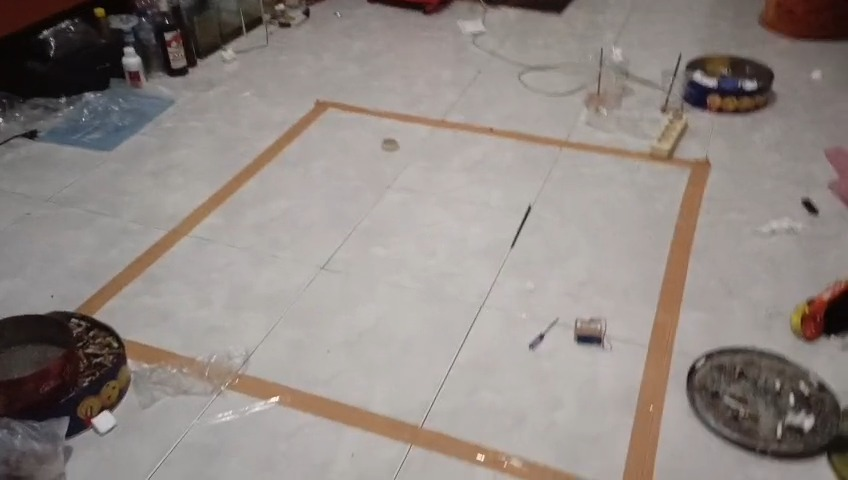floor marking: (77, 101, 710, 479), (231, 376, 578, 479), (125, 340, 194, 365)
